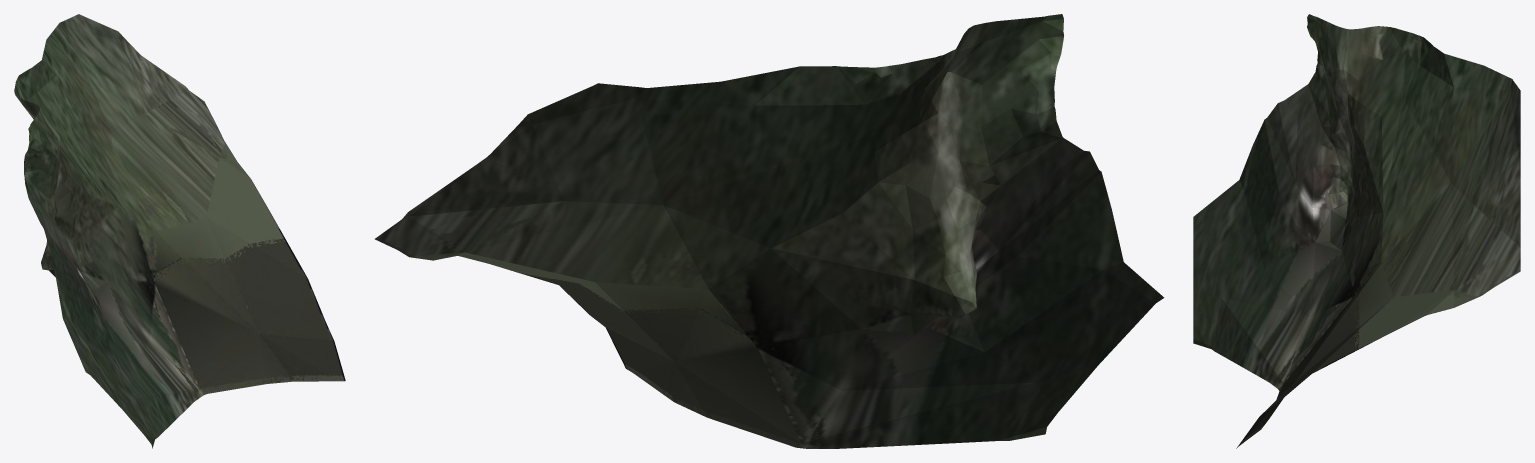
3 views of the same model, side by side, from view 1: azimuth 30°, elevation 25°; view 2: azimuth 150°, elevation 25°; view 3: azimuth 270°, elevation 25° (orthographic). The views are drawn at different scales.
Size of the model in its own units: 5.9 by 5.9 by 5.9.
Materials: 3 (3 with a texture image).
